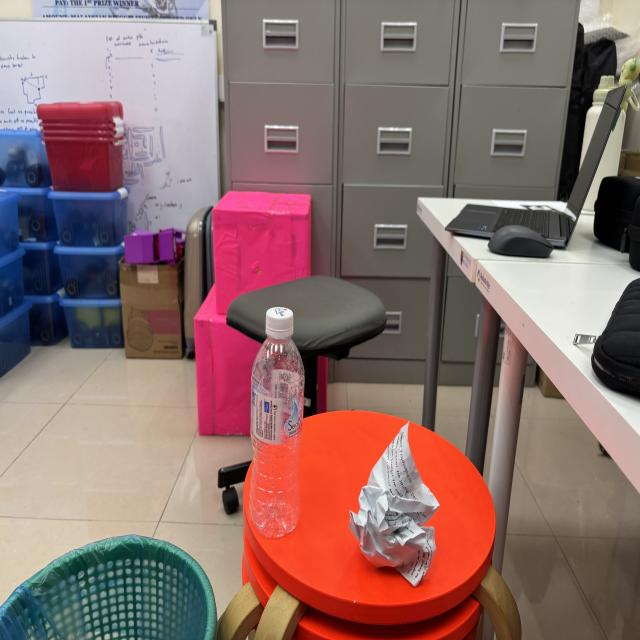crumpled_paper: (340, 412, 448, 597)
plastic_bottle: (243, 302, 311, 550)
